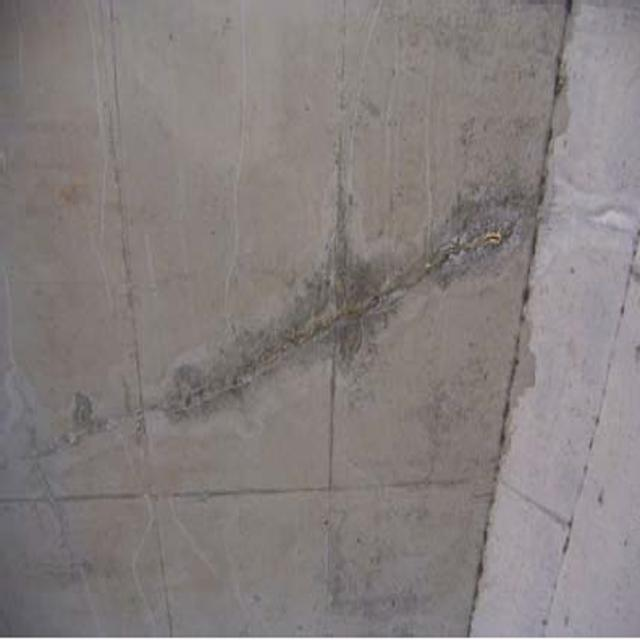crack: (118, 213, 513, 426)
